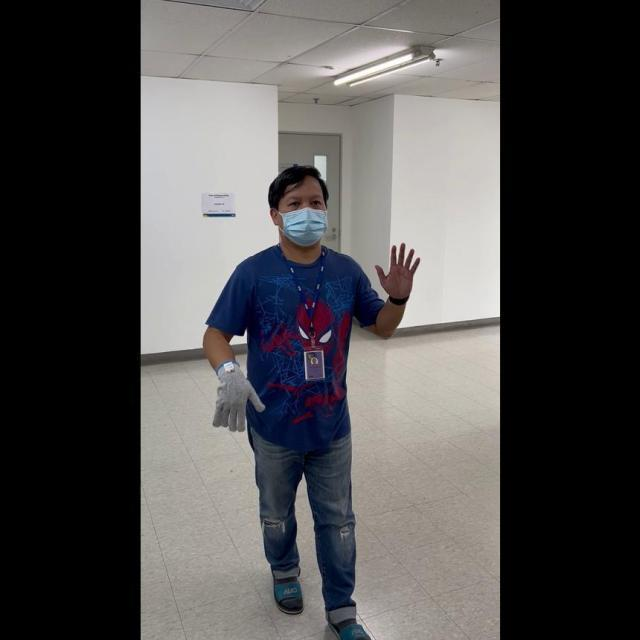bare_hand: (374, 238, 420, 301)
gloved_hand: (210, 357, 264, 432)
